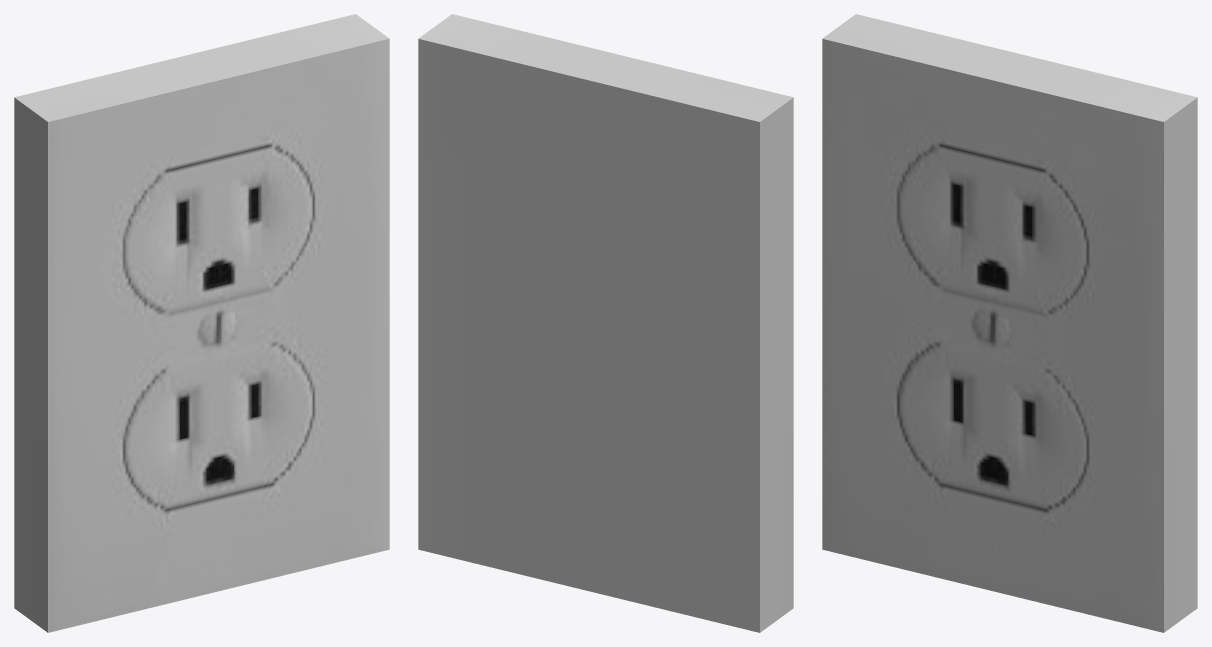
The model's file is Outlet.fbx_Scene.fbx.
The picture shows the model from 3 angles, left to right: view 1: azimuth 30°, elevation 25°; view 2: azimuth 150°, elevation 25°; view 3: azimuth 330°, elevation 25°; orthographic projection.
Parts seen in each view (by area): view 1: Outlet; view 2: Outlet; view 3: Outlet.
Part boxes in pixels (bbox=[...]): Outlet: bbox=[14, 14, 389, 632]; Outlet: bbox=[418, 14, 793, 632]; Outlet: bbox=[822, 14, 1197, 632].
Bounding box in the file's own units: 11.2 × 16 × 1.92.
Materials: 1 (1 with a texture image).
